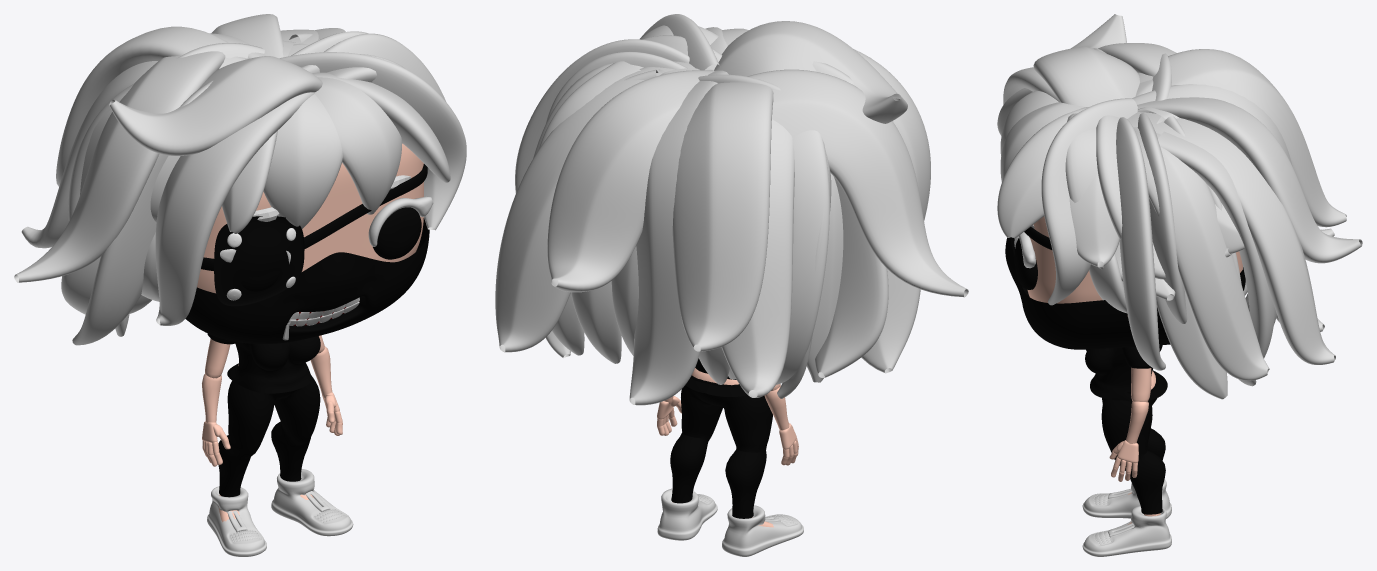
Rendered from Kaneki.glb.
3 views of the same model, side by side, from view 1: azimuth 30°, elevation 25°; view 2: azimuth 150°, elevation 25°; view 3: azimuth 270°, elevation 25° (orthographic). The views are drawn at different scales.
Parts seen in each view (by area): view 1: NurbsPath001, fem_head001, fem_body003, female_pants001, fem_sneakers004, Plane, female_shirt001, fem_eyes005, fem_head003, fem_eyelashes001, fem_head002; view 2: NurbsPath001, female_pants001, fem_sneakers004, fem_body003, female_shirt001; view 3: NurbsPath001, fem_head001, fem_body003, fem_sneakers004, female_pants001, female_shirt001, fem_eyes005.
Part boxes in pixels (x1,y1,x2,y2): NurbsPath001: (14,14,466,345); fem_head001: (185,218,429,343); fem_body003: (197,143,423,522); female_pants001: (218,363,320,497); fem_sneakers004: (207,469,353,556); Plane: (214,216,304,306); female_shirt001: (207,333,320,393); fem_eyes005: (241,207,421,291); fem_head003: (201,164,427,270); fem_eyelashes001: (220,196,433,263); fem_head002: (288,297,359,326); NurbsPath001: (495,14,968,405); female_pants001: (670,375,772,518); fem_sneakers004: (657,488,803,556); fem_body003: (657,368,798,527); female_shirt001: (685,358,747,396); NurbsPath001: (997,14,1362,399); fem_head001: (1005,237,1245,349); fem_body003: (1027,216,1242,524); fem_sneakers004: (1082,479,1171,556); female_pants001: (1101,371,1165,514); female_shirt001: (1085,345,1167,401); fem_eyes005: (1014,238,1037,289).
Size of the model in its own units: 2.43 by 2.57 by 1.86.
